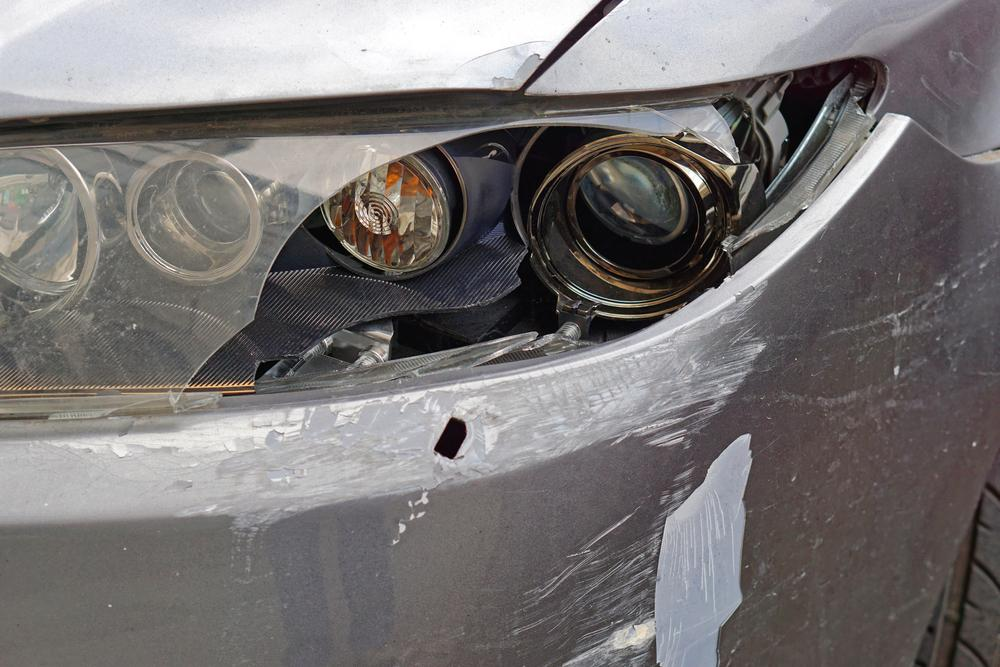lamp broken: (0, 60, 878, 428)
scratch: (0, 274, 779, 667)
